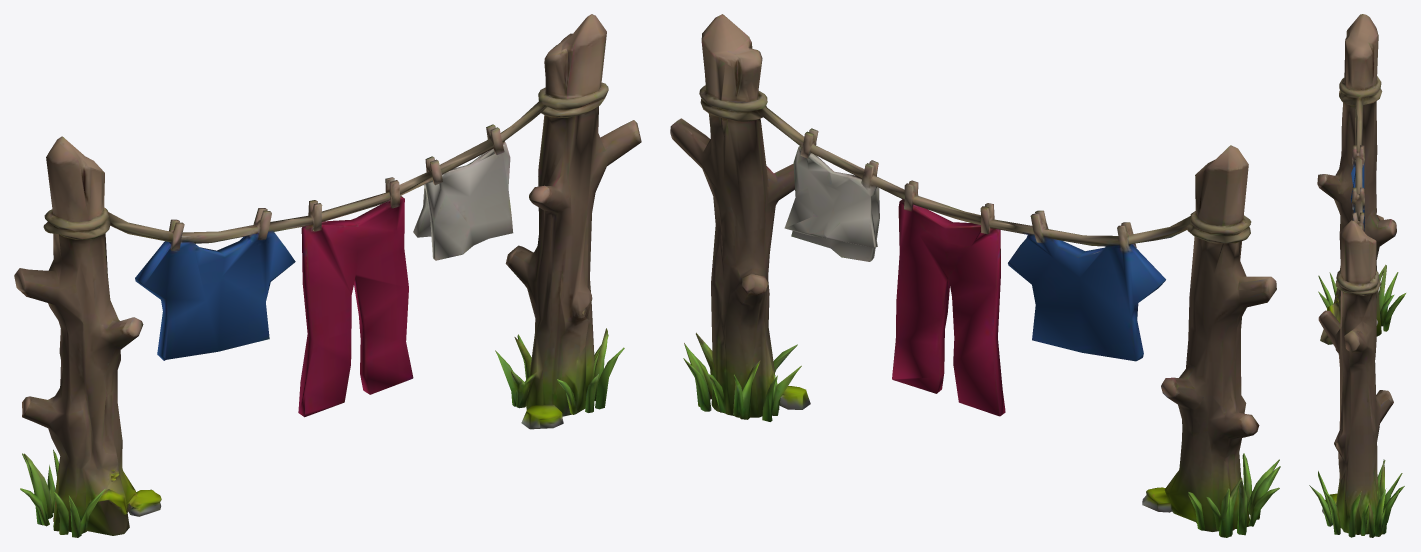
Rendered from washing-line.glb.
The picture shows the model from 3 angles, left to right: view 1: azimuth 30°, elevation 25°; view 2: azimuth 150°, elevation 25°; view 3: azimuth 270°, elevation 25°; orthographic projection. The views are drawn at different scales.
Visible parts, largest first — view 1: node_0; view 2: node_0; view 3: node_0.
Part boxes in pixels (x1,y1,x2,y2): node_0: [14, 14, 641, 537]; node_0: [670, 14, 1280, 537]; node_0: [1309, 14, 1405, 537].
Bounding box in the file's own units: 3.67 × 2.2 × 0.6177.
1 material, 1 textured.
